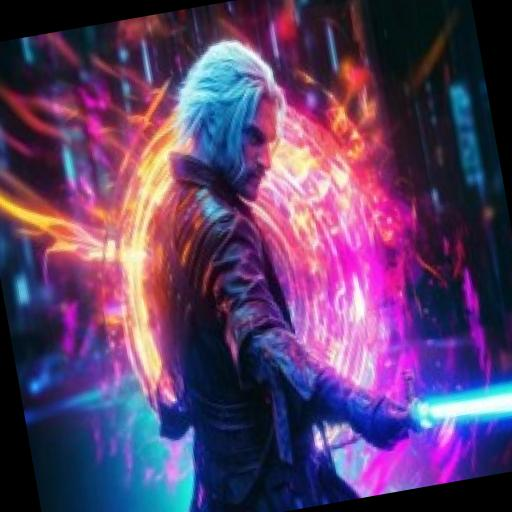human: (91, 20, 418, 512)
lightsaber: (369, 369, 512, 450)
